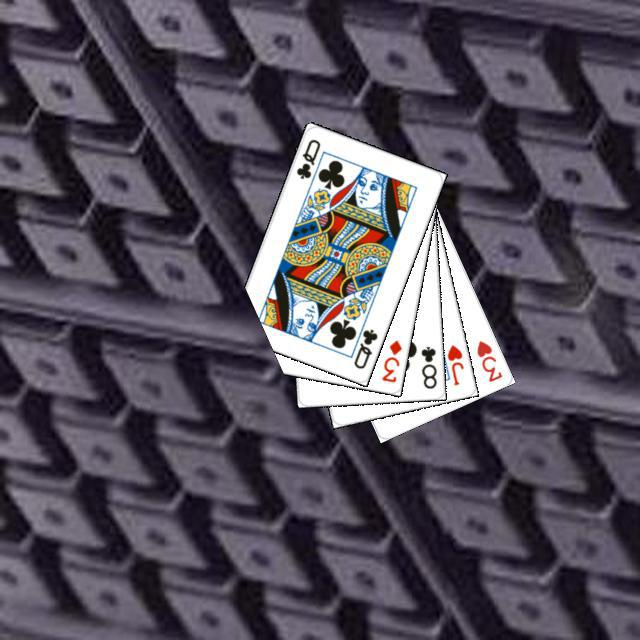3d: (376, 335, 404, 384)
3h: (472, 335, 504, 384)
8c: (416, 341, 439, 390)
Jh: (442, 340, 465, 387)
Qc: (343, 317, 379, 371), (291, 134, 322, 181)
